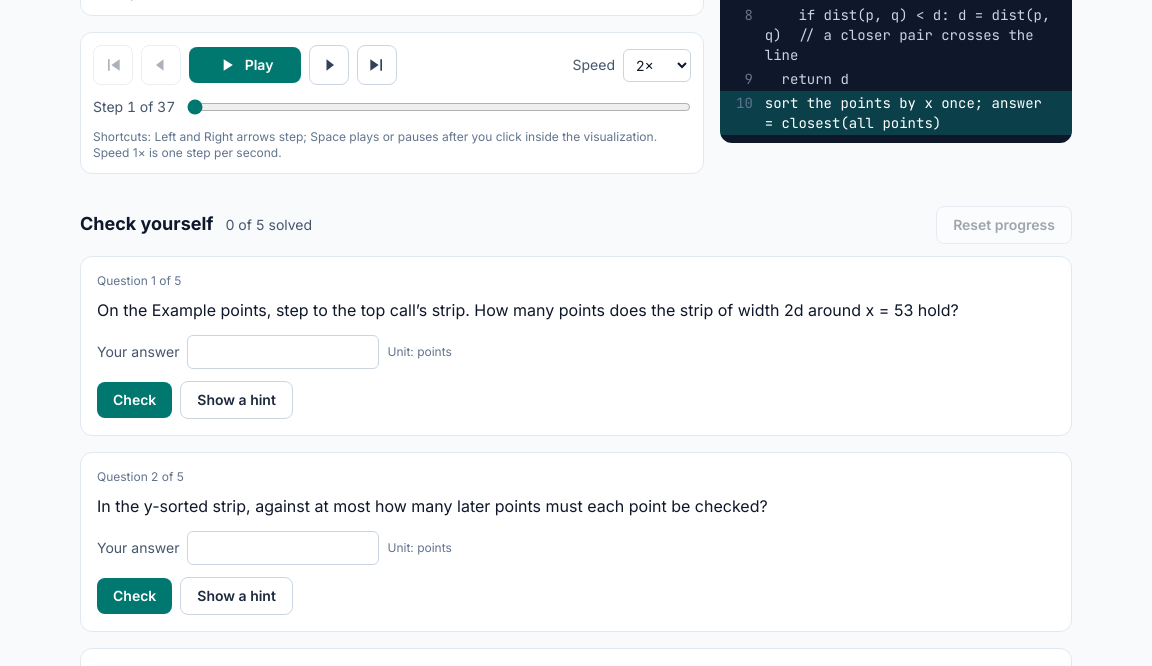
Test: closest pair lesson › checks a practice answer, shows a hint, and accepts the right one
(page scrolled)
Type "6" into the field named "answer" at {"x": 284, "y": 352}, box [188,335,380,369]
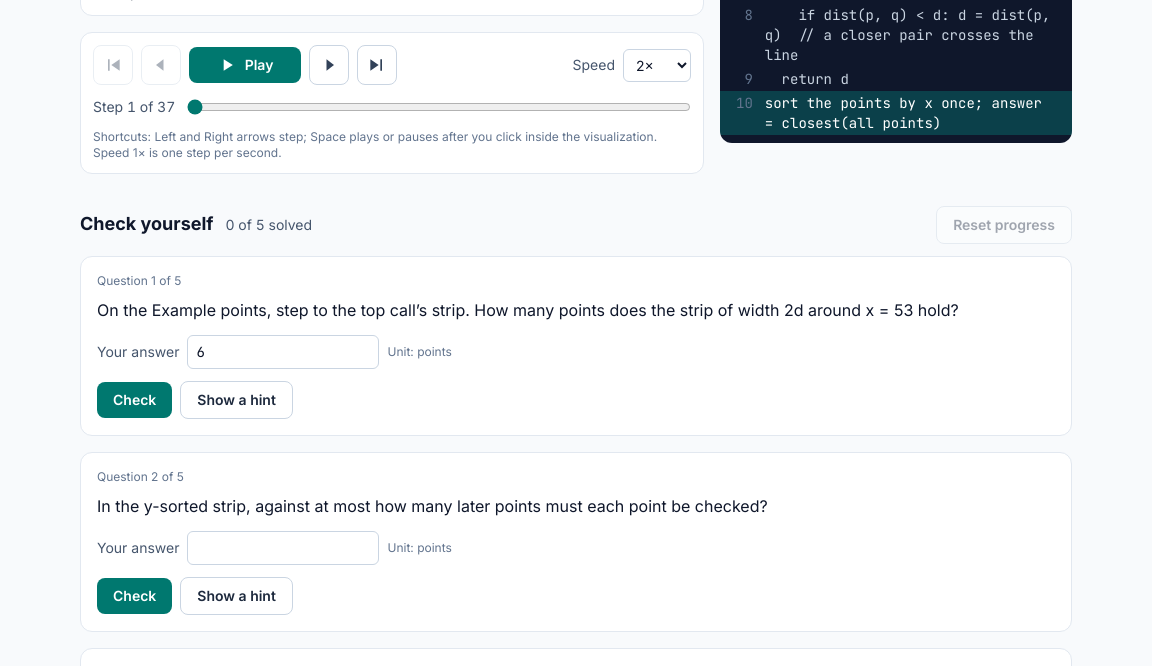
Submit the form "Your answer Unit: points Check Show a hint" below "Question 1 of 5", box [97,335,452,419]
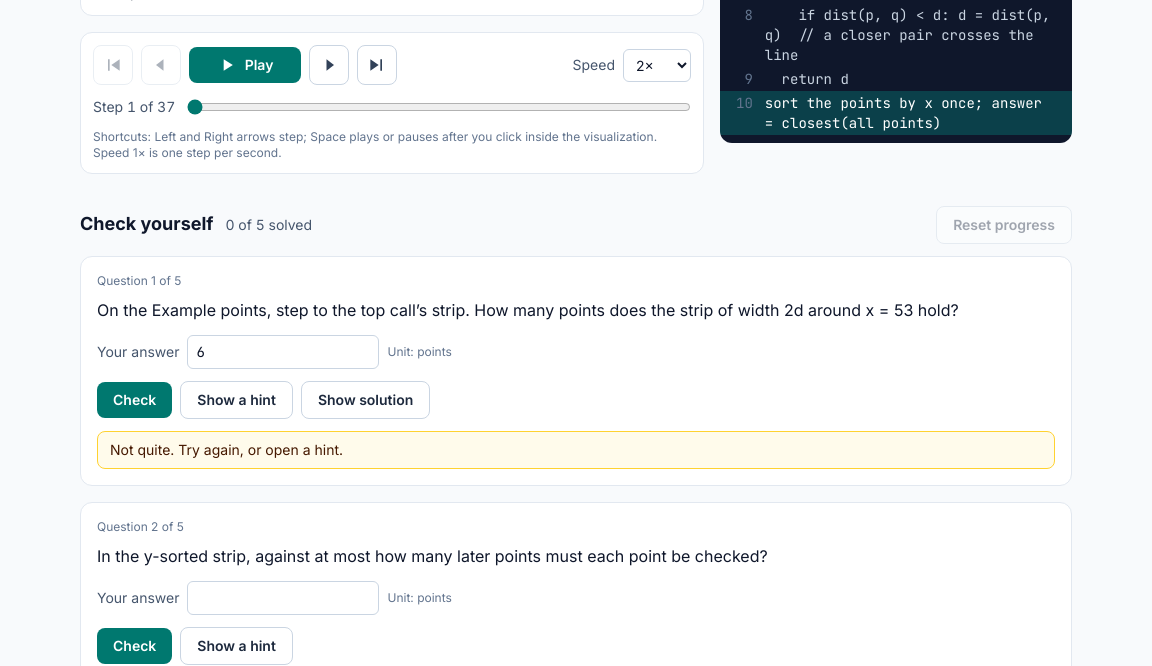
expect the list item that starts with "Question 1 of 5" shows "Not quite": met, box [110,441,343,458]
Click the button "Show a hint" below "Question 1 of 5" at {"x": 237, "y": 400}, box [180,381,293,419]
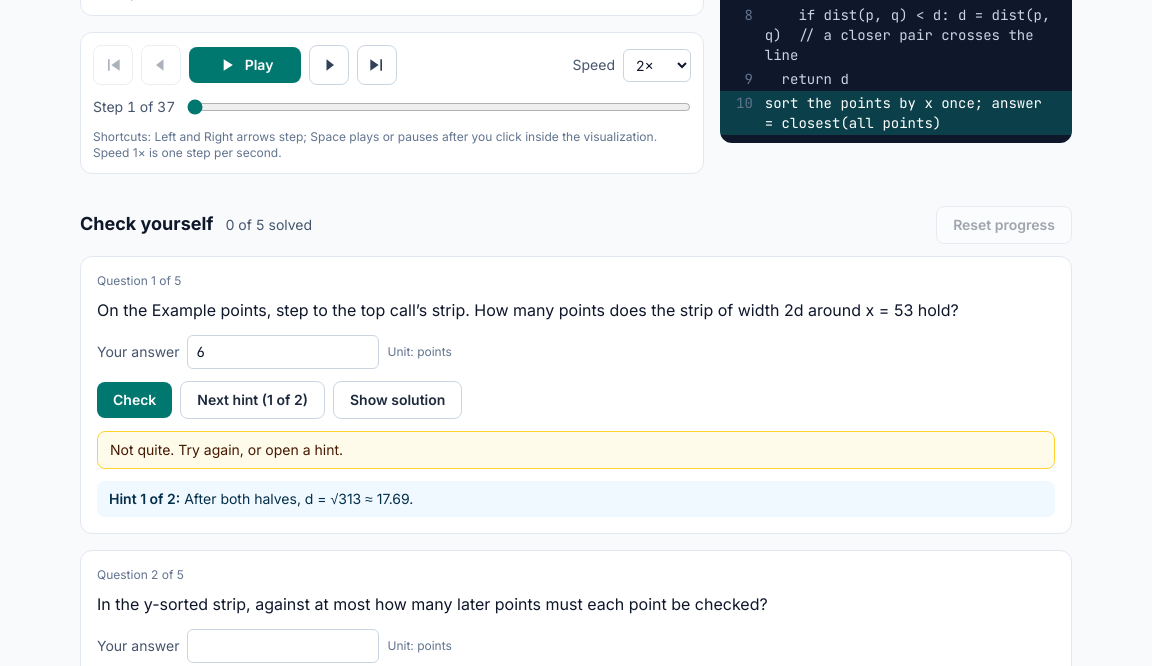
expect the list item that starts with "Question 1 of 5" shows "After both halves, d = √313 ≈ 17.69.": met, box [180,490,413,507]
Replace the text in the field named "answer" with "5" at {"x": 284, "y": 352}, box [188,335,380,369]
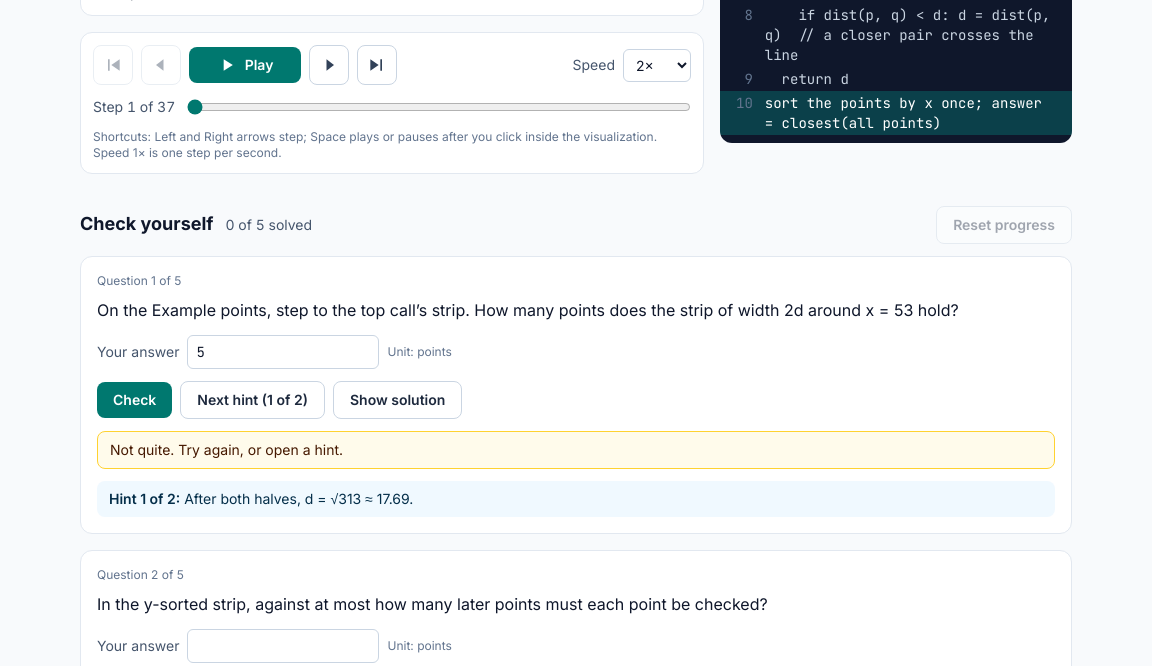
Submit the 1st form, box [97,335,462,419]
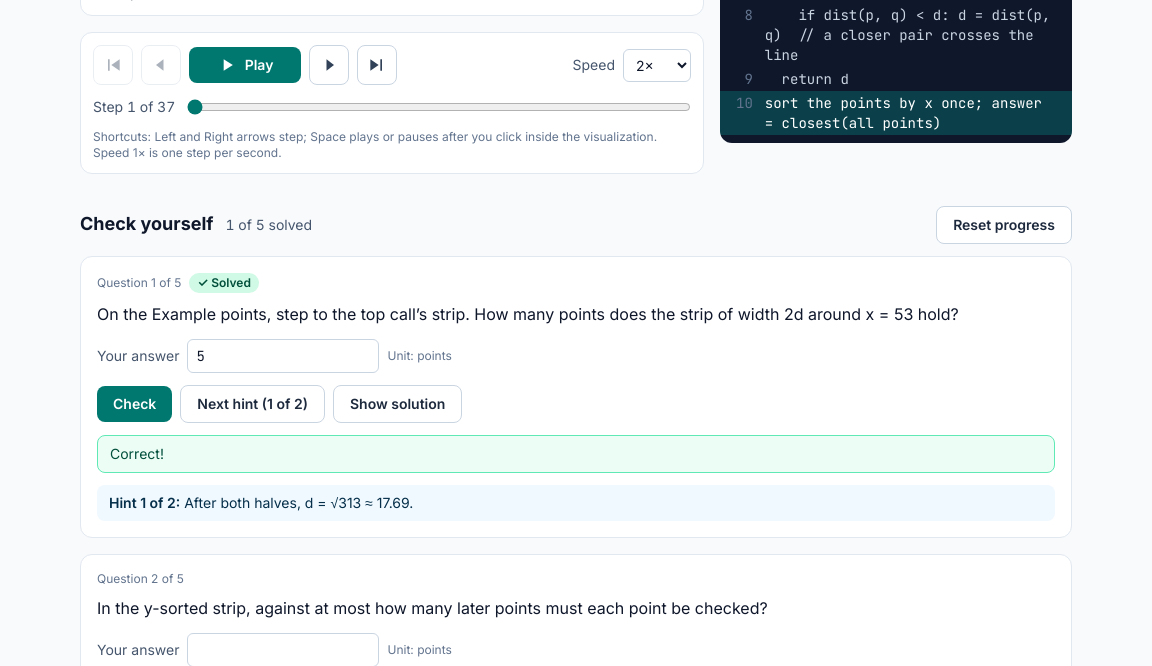
expect the list item that starts with "Question 1 of 5" shows "Correct!": met, box [110,445,164,462]
